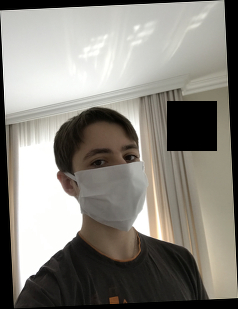with_mask: (72, 137, 149, 233)
